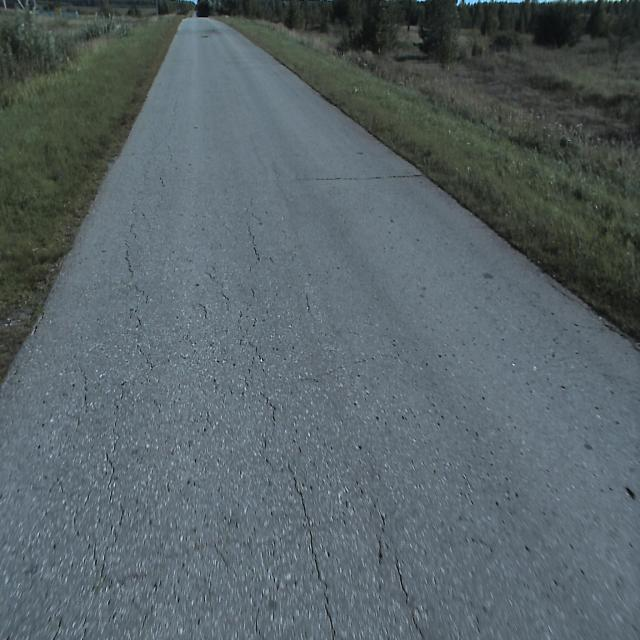road: (0, 11, 640, 639)
